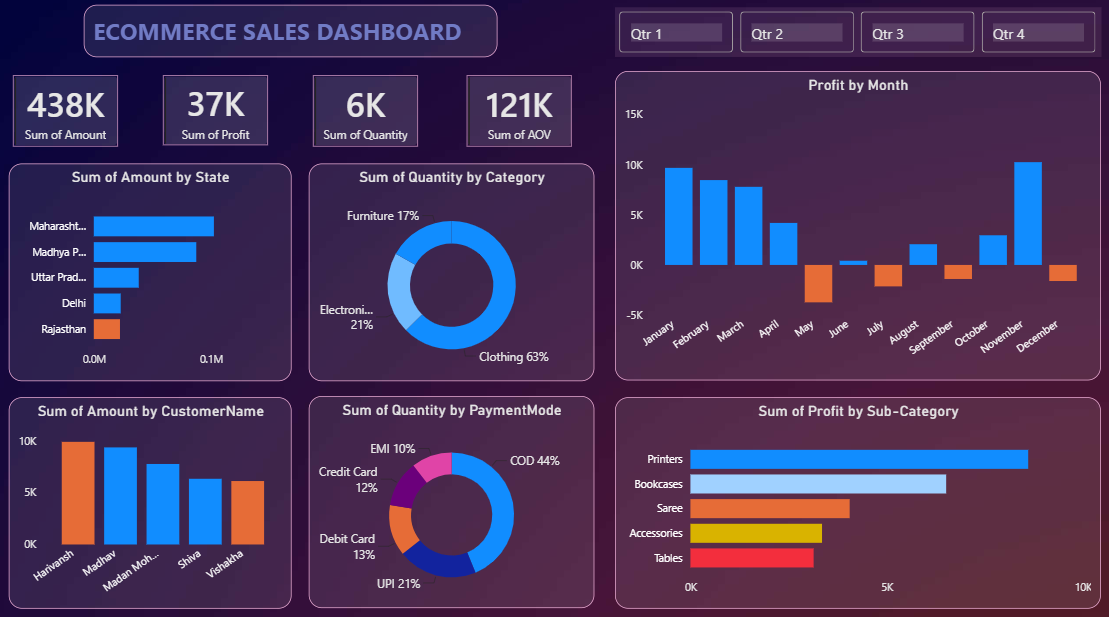

The dashboard page shown, as its layout file describes it:
{"tool":"powerbi","page":{"name":"Page 1","canvas":[1280,720],"ordinal":0},"visuals":[{"type":"textbox","box":[107.1,10,472.9,60],"z":0},{"type":"columnChart","title":"Profit by Month","fields":{"Category":["Orders.Order Date.Variation.Date Hierarchy.Month"],"Y":["Sum(Details.Profit)"]},"box":[715,86.2,555,353.3],"z":1000},{"type":"barChart","fields":{"Category":["Details.Sub-Category"],"Y":["Sum(Details.Profit)"]},"box":[714.8,458,555.6,242],"z":2000},{"type":"donutChart","fields":{"Category":["Details.Category"],"Y":["Sum(Details.Quantity)"]},"box":[365,191.2,326.2,248.8],"z":3000},{"type":"donutChart","fields":{"Category":["Details.PaymentMode"],"Y":["Sum(Details.Quantity)"]},"box":[365,457.5,326.2,242.5],"z":4000},{"type":"cardVisual","fields":{"Data":["Sum(Details.AOV)"]},"box":[540,86.2,130,91.2],"z":6000},{"type":"cardVisual","fields":{"Data":["Sum(Details.Quantity)"]},"box":[365,86.2,130,91.2],"z":7000},{"type":"cardVisual","fields":{"Data":["Sum(Details.Amount)"]},"box":[21.2,86.2,130,91.7],"z":8000},{"type":"cardVisual","fields":{"Data":["Sum(Details.Profit)"]},"box":[192.5,86.2,130,90.6],"z":9000},{"type":"columnChart","fields":{"Category":["Orders.CustomerName"],"Y":["Sum(Details.Amount)"]},"box":[21.7,458.3,323.3,241.7],"z":10000},{"type":"advancedSlicerVisual","fields":{"Values":["Orders.Order Date.Variation.Date Hierarchy.Quarter"]},"box":[714.3,12.9,555.7,57.1],"z":11000},{"type":"barChart","fields":{"Y":["Sum(Details.Amount)"],"Category":["Orders.State"]},"box":[21.4,191.4,322.9,248.6],"z":12000}]}

Visuals, with their boxes in screenshot pixels (x1, y1, x2, y2), scaled from the page's 1280x720 canvas onto the 1109x617 screenshot:
textbox: <region>93, 9, 503, 60</region>
"Profit by Month" columnChart: <region>619, 74, 1100, 377</region>
barChart - Details.Sub-Category x Sum(Details.Profit): <region>619, 392, 1101, 600</region>
donutChart - Details.Category x Sum(Details.Quantity): <region>316, 164, 599, 377</region>
donutChart - Details.PaymentMode x Sum(Details.Quantity): <region>316, 392, 599, 600</region>
cardVisual - Sum(Details.AOV): <region>468, 74, 580, 152</region>
cardVisual - Sum(Details.Quantity): <region>316, 74, 429, 152</region>
cardVisual - Sum(Details.Amount): <region>18, 74, 131, 152</region>
cardVisual - Sum(Details.Profit): <region>167, 74, 279, 152</region>
columnChart - Orders.CustomerName x Sum(Details.Amount): <region>19, 393, 299, 600</region>
advancedSlicerVisual - Orders.Order Date.Variation.Date Hierarchy.Quarter: <region>619, 11, 1100, 60</region>
barChart - Sum(Details.Amount) x Orders.State: <region>19, 164, 298, 377</region>
